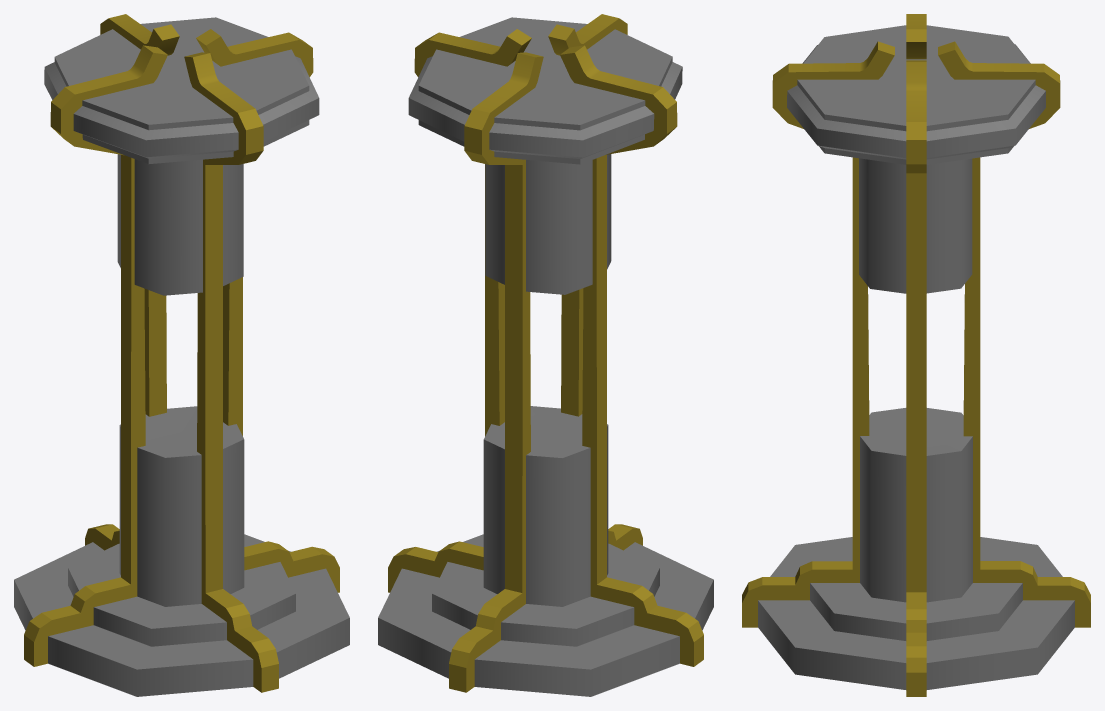
Rendered from Pillar.FBX.
3 renders of one model, left to right at view 1: azimuth 30°, elevation 25°; view 2: azimuth 150°, elevation 25°; view 3: azimuth 270°, elevation 25°, orthographic.
Parts seen in each view (by area): view 1: Pillar001; view 2: Pillar001; view 3: Pillar001.
Boxes of the visible parts, x1,y1,x2,y2 form: Pillar001: [14, 14, 349, 696]; Pillar001: [378, 14, 713, 696]; Pillar001: [742, 14, 1090, 696].
Size of the model in its own units: 16.98 by 31.04 by 16.98.
Materials: 1 (1 with a texture image).
